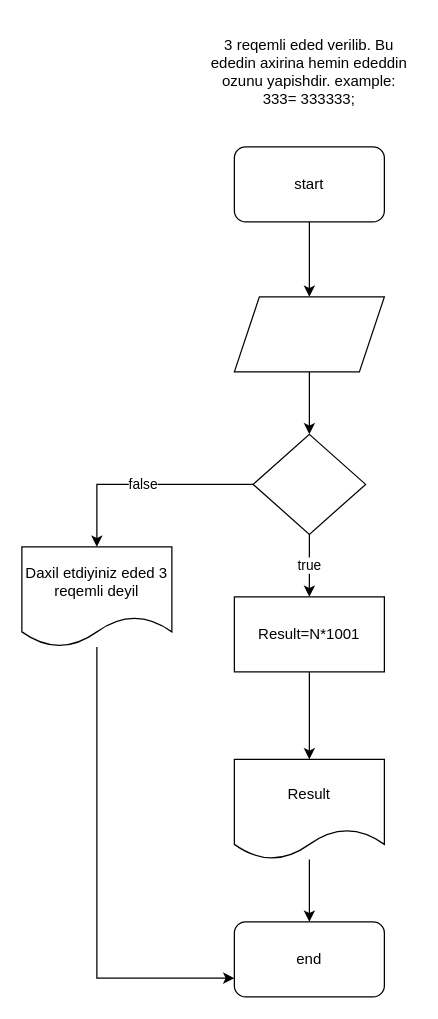
This 438x1019 diagram has some shape labels left out. Here are the shapes that lost their labels. From the top down, the centre of each, then its label:
the point at 308,334: N x=1001 Result
the point at 309,483: N>=100 &&N<=999
